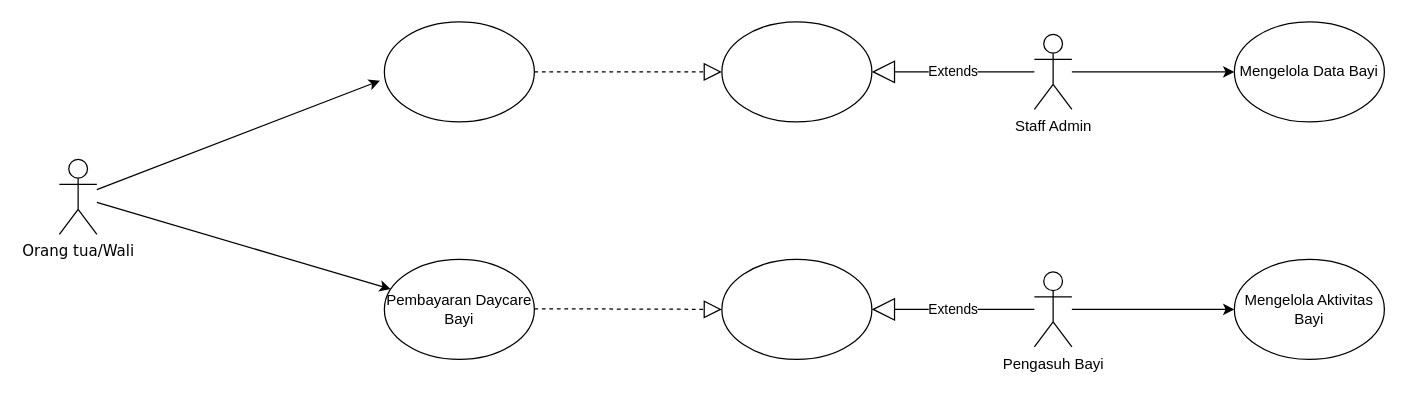
Some shapes in this 1406 by 395 pixel diagram are drawn without their labels. The centre of each missing label's shape, as x and y in pixels:
"Melihat Laporan Harian" goes at pixel 796 308.
"Mengupdate Informasi Bayi" goes at pixel 796 71.
"Registrasi Daycare Bayi" goes at pixel 458 71.
